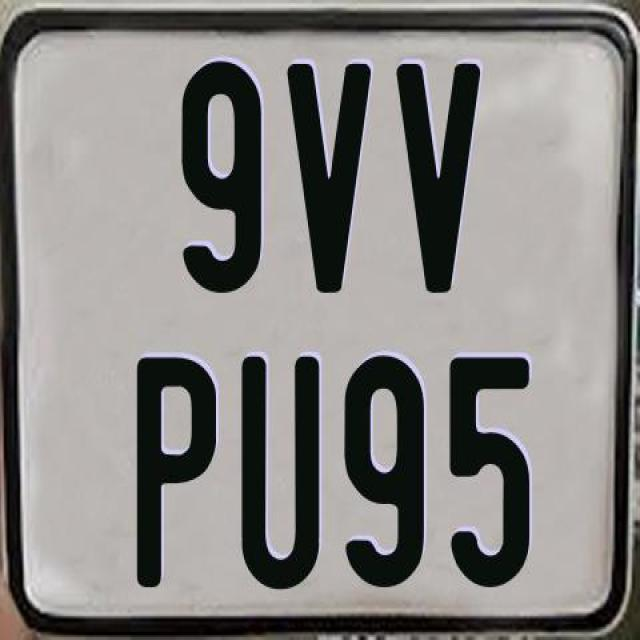5: (450, 357, 534, 591)
9: (344, 352, 432, 592), (180, 59, 266, 297)
P: (133, 356, 215, 591)
U: (240, 352, 322, 589)
V: (287, 61, 379, 295), (396, 63, 486, 300)
